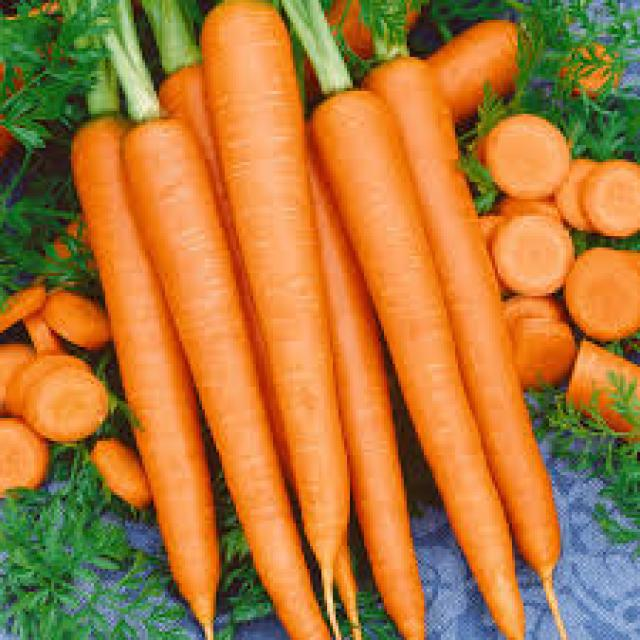Carrot: (214, 1, 338, 570)
